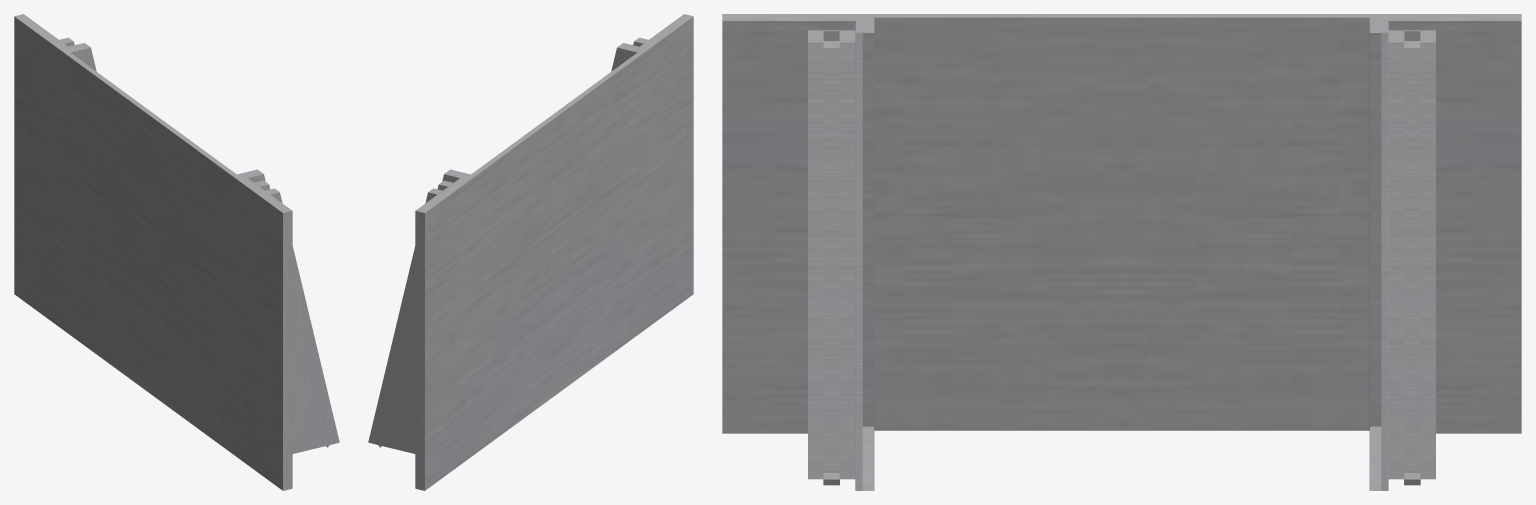
The model's file is frame-00.glb.
The picture shows the model from 3 angles, left to right: view 1: azimuth 30°, elevation 25°; view 2: azimuth 150°, elevation 25°; view 3: azimuth 270°, elevation 25°; orthographic projection. The views are drawn at different scales.
Visible parts, largest first — view 1: FRAME_00; view 2: FRAME_00; view 3: FRAME_00.
Part boxes in pixels (<box>): FRAME_00: <box>14,14,339,490</box>; FRAME_00: <box>368,14,693,490</box>; FRAME_00: <box>722,14,1521,490</box>.
Bounding box in the file's own units: 4.59 × 13.83 × 24.19.
Materials: 1 (1 with a texture image).
